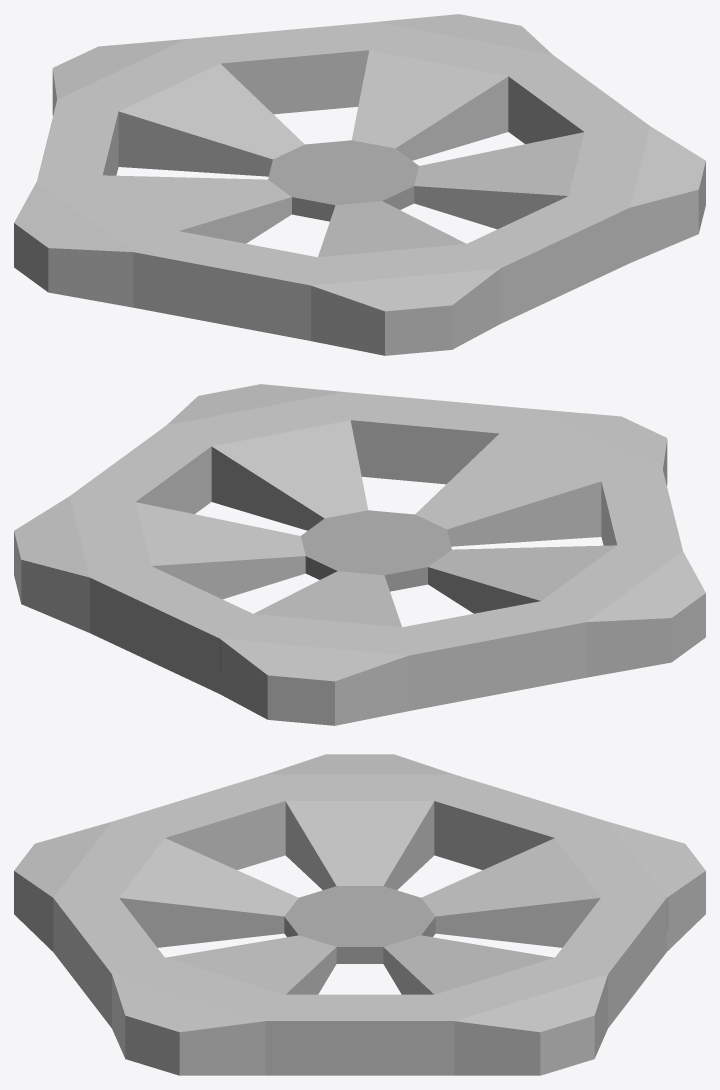
The model's file is EngrenagemLowPoly02.fbx.
The picture shows the model from 3 angles, top to bottom: view 1: azimuth 30°, elevation 25°; view 2: azimuth 150°, elevation 25°; view 3: azimuth 270°, elevation 25°; orthographic projection. The views are drawn at different scales.
Parts seen in each view (by area): view 1: Cylinder; view 2: Cylinder; view 3: Cylinder.
Part boxes in pixels (x1,y1,x2,y2): Cylinder: [14, 14, 705, 355]; Cylinder: [14, 384, 705, 725]; Cylinder: [14, 754, 705, 1075].
Size of the model in its own units: 430 by 39.22 by 452.
1 material, 1 textured.
